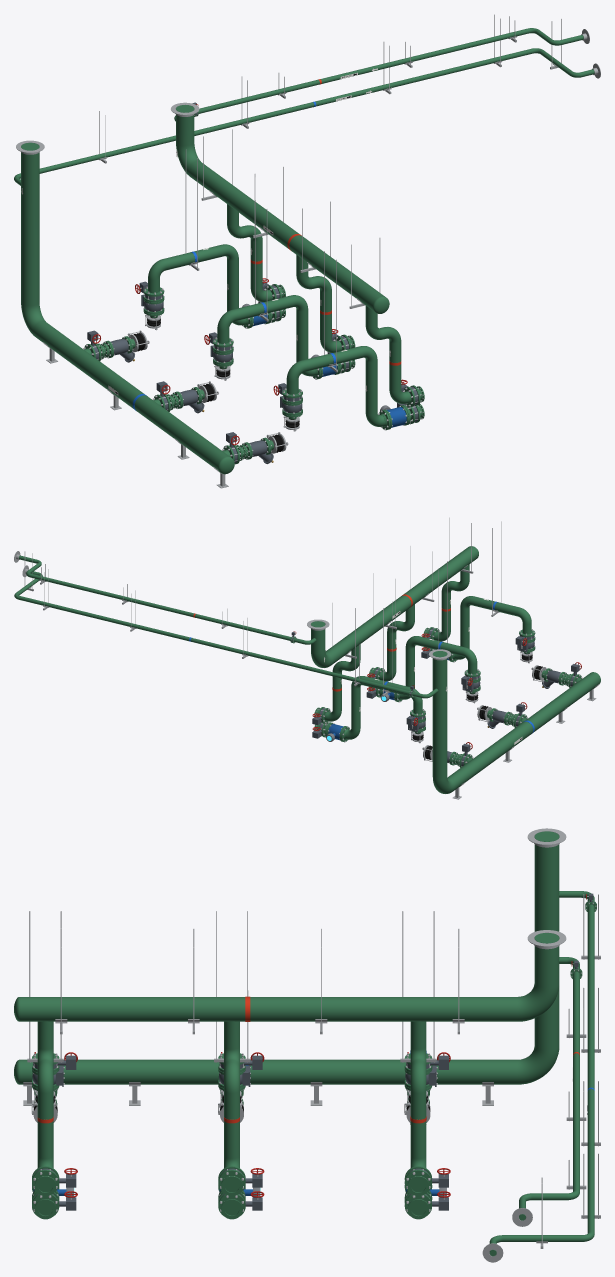
Rendered from cw-loop.glb.
3 renders of one model, top to bottom at view 1: azimuth 30°, elevation 25°; view 2: azimuth 150°, elevation 25°; view 3: azimuth 270°, elevation 25°, orthographic. The views are drawn at different scales.
Parts seen in each view (by area): view 1: CWL_SupplyHeader, CWL_ReturnHeader, CWL_CDA_Supply, CWL_CDA_Return, CWL_CH01_Discharge, CWL_Supports, CWL_CH02_Discharge, CWL_CH03_Discharge, CWL_CH01_Outlet, CWL_CH03_Outlet, CWL_CH02_Outlet, CWL_CDA_Supports; view 2: CWL_SupplyHeader, CWL_ReturnHeader, CWL_CDA_Supply, CWL_CDA_Return, CWL_Supports, CWL_CH01_Discharge, CWL_CH02_Discharge, CWL_CH03_Discharge, CWL_CH01_Outlet, CWL_CH02_Outlet, CWL_CH03_Outlet, CWL_CDA_Supports; view 3: CWL_ReturnHeader, CWL_SupplyHeader, CWL_CDA_Supply, CWL_Supports, CWL_CH01_Outlet, CWL_CH03_Outlet, CWL_CH02_Outlet, CWL_CDA_Return, CWL_CDA_Supports, BV_624_CondenserOutlet, BV_614_CondenserOutlet, BV_634_CondenserOutlet.
Boxes of the visible parts, x1,y1,x2,y2 form: CWL_SupplyHeader: (16,140,234,474); CWL_ReturnHeader: (171,102,389,313); CWL_CDA_Supply: (14,48,600,185); CWL_CDA_Return: (174,28,589,121); CWL_CH01_Discharge: (286,346,424,426); CWL_Supports: (43,129,380,488); CWL_CH02_Discharge: (217,295,355,376); CWL_CH03_Discharge: (148,244,285,325); CWL_CH01_Outlet: (365,306,424,403); CWL_CH03_Outlet: (227,204,285,302); CWL_CH02_Outlet: (296,255,355,352); CWL_CDA_Supports: (99,14,561,163); CWL_SupplyHeader: (428,649,600,793); CWL_ReturnHeader: (307,546,478,667); CWL_CDA_Supply: (14,565,438,698); CWL_CDA_Return: (14,551,316,644); CWL_Supports: (332,517,598,799); CWL_CH01_Discharge: (423,596,531,659); CWL_CH02_Discharge: (368,636,477,699); CWL_CH03_Discharge: (314,676,422,739); CWL_CH01_Outlet: (423,564,469,641); CWL_CH02_Outlet: (368,604,414,681); CWL_CH03_Outlet: (314,644,360,721); CWL_CDA_Supports: (24,551,360,686); CWL_ReturnHeader: (14,930,566,1021); CWL_SupplyHeader: (14,828,566,1084); CWL_CDA_Supply: (482,891,594,1262); CWL_Supports: (23,911,493,1105); CWL_CH01_Outlet: (34,1021,56,1196); CWL_CH03_Outlet: (407,1021,429,1196); CWL_CH02_Outlet: (221,1021,242,1196); CWL_CDA_Return: (512,957,579,1226); CWL_CDA_Supports: (536,894,600,1248); BV_624_CondenserOutlet: (218,1166,264,1192); BV_614_CondenserOutlet: (32,1166,77,1192); BV_634_CondenserOutlet: (404,1166,450,1192).
Bounding box in the file's own units: 17.7 × 6 × 11.96.
